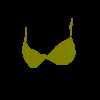reggiseno: (22, 18, 76, 68)
